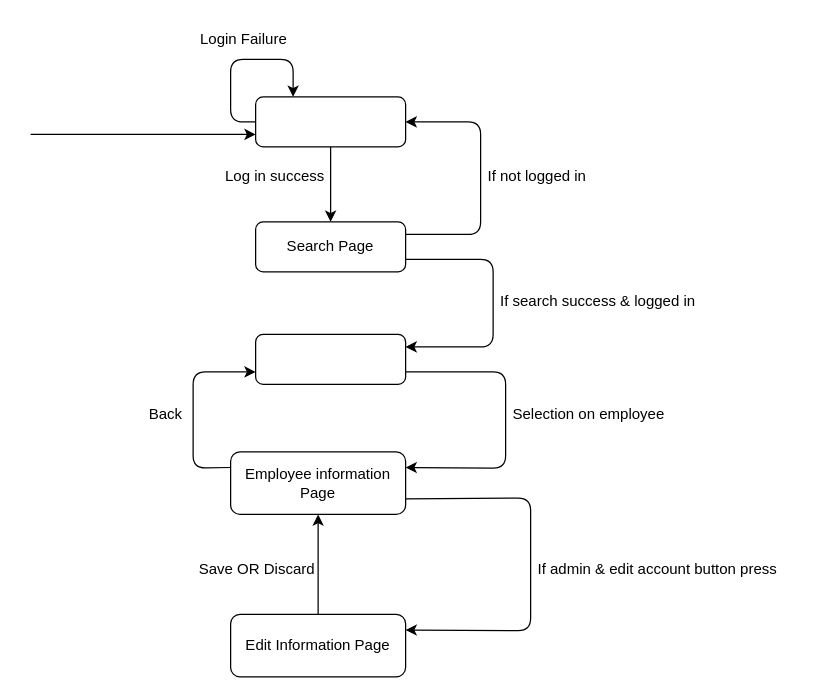
Image size: 815x699. Some labels were removed from this diagram. Each missing label, with the box of its shape:
Login Page: (254, 96, 406, 147)
Results Page: (254, 333, 406, 384)
